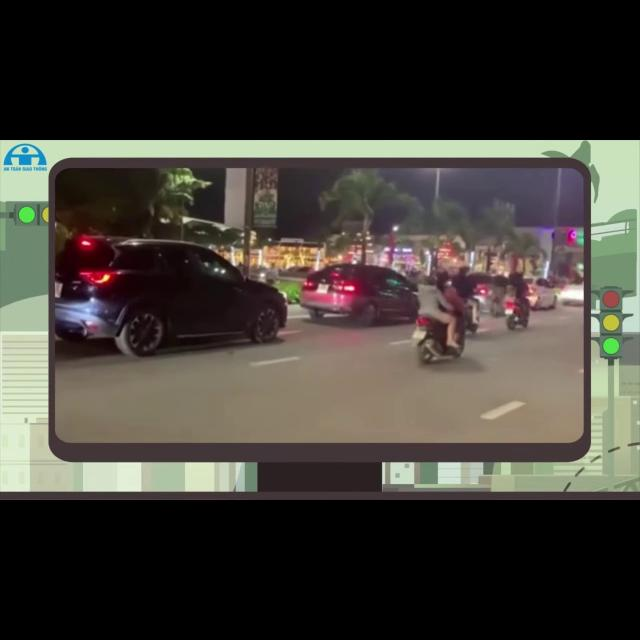car: (54, 236, 287, 356), (300, 264, 419, 325), (468, 272, 493, 312), (525, 278, 557, 309), (559, 283, 585, 305)
motorcycle: (412, 315, 465, 364), (505, 299, 529, 329), (465, 298, 479, 334)
